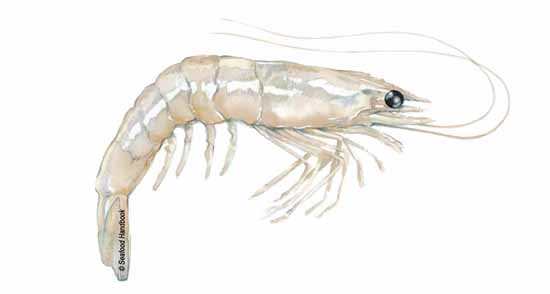White Prawn: (83, 44, 432, 282)
